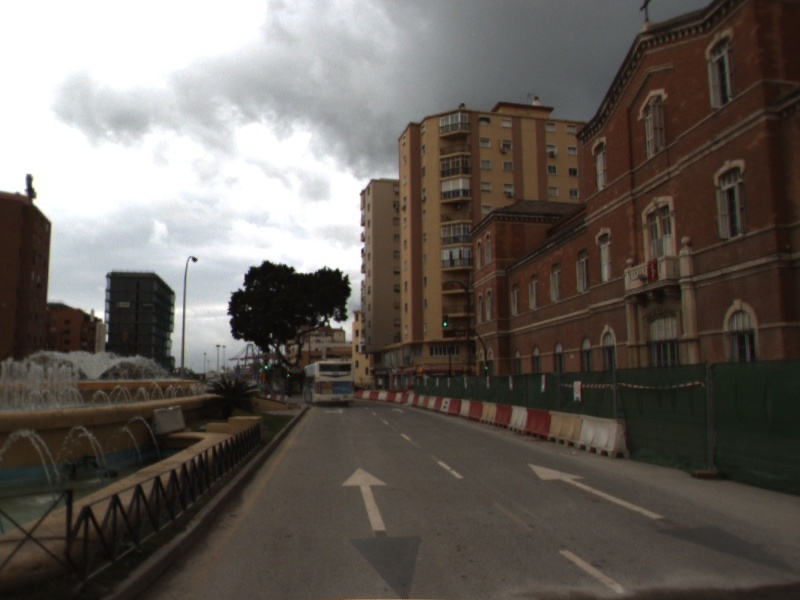STRAIGHT: (525, 460, 670, 521), (340, 463, 391, 532)
